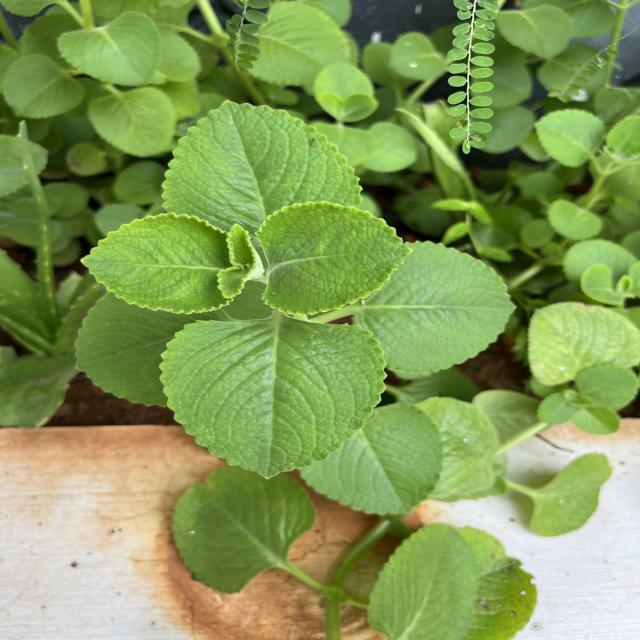Plectranthus barbatus: (157, 318, 389, 482), (158, 98, 366, 216), (168, 463, 318, 596), (382, 238, 518, 376), (254, 200, 414, 317), (76, 211, 246, 315), (296, 401, 444, 516), (366, 521, 481, 640), (56, 11, 164, 88), (88, 86, 178, 158), (2, 53, 86, 119), (532, 108, 606, 169)
